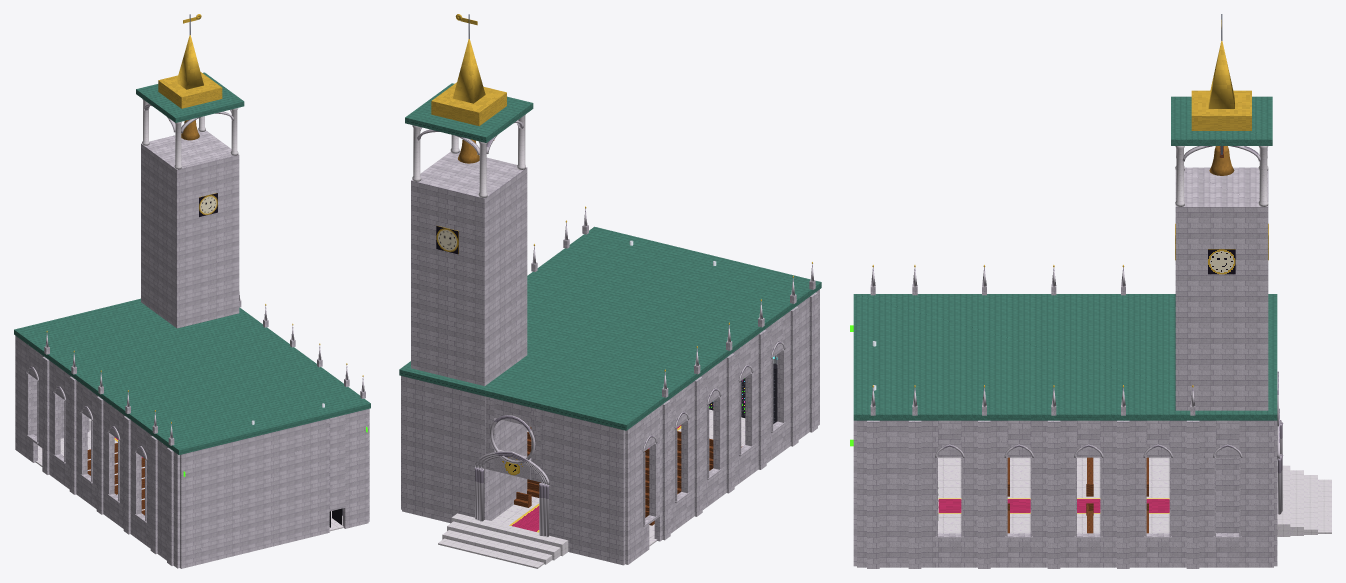
Rendered from p_jb_cathedral.glb.
The picture shows the model from 3 angles, left to right: view 1: azimuth 30°, elevation 25°; view 2: azimuth 150°, elevation 25°; view 3: azimuth 270°, elevation 25°; orthographic projection. The views are drawn at different scales.
Parts seen in each view (by area): view 1: jb_cathedral_lod0; view 2: jb_cathedral_lod0; view 3: jb_cathedral_lod0.
Boxes of the visible parts, x1,y1,x2,y2 form: jb_cathedral_lod0: (14, 14, 370, 568); jb_cathedral_lod0: (399, 14, 821, 568); jb_cathedral_lod0: (850, 14, 1331, 568).
Size of what is drawn, in the model's own units: 25.1 by 50.5 by 41.6.
Materials: 8 (6 with a texture image).
